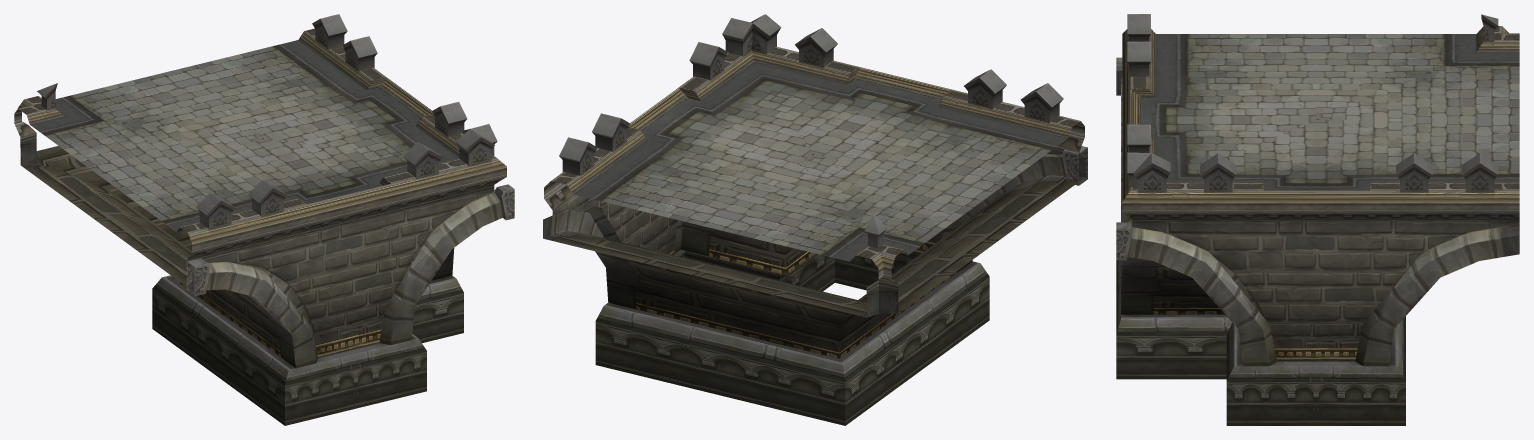
The model's file is new_sh_bridgeout_c.FBX.
The picture shows the model from 3 angles, left to right: view 1: azimuth 30°, elevation 25°; view 2: azimuth 150°, elevation 25°; view 3: azimuth 270°, elevation 25°; orthographic projection. The views are drawn at different scales.
Parts seen in each view (by area): view 1: new_sh_bridgeout_c; view 2: new_sh_bridgeout_c; view 3: new_sh_bridgeout_c.
Boxes of the visible parts, x1=… form: new_sh_bridgeout_c: x1=14, y1=14, x2=514, y2=425; new_sh_bridgeout_c: x1=543, y1=14, x2=1087, y2=425; new_sh_bridgeout_c: x1=1116, y1=14, x2=1519, y2=425.
Size of the model in its own units: 1276 by 901 by 1276.
Materials: 1 (1 with a texture image).
